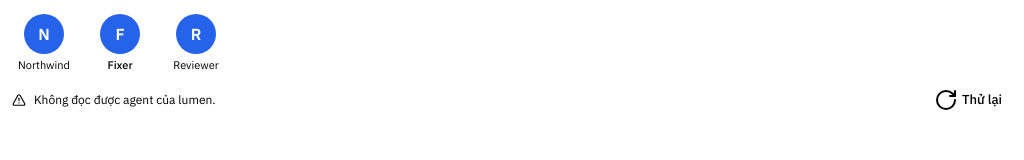
Scenario: the row of agents › names the projects whose agents could not be read and reads them again on Try again
Check: the element with test id "agent-strip-failed" shows "Không đọc được agent của lumen.", box [34, 92, 216, 107]
What coordinates should you click on to do the following:
click the button with test id "agent-strip-retry"
I would click on:
 (968, 100)
Its box is [924, 86, 1012, 114].
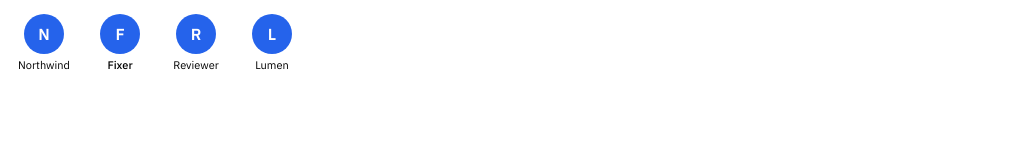
Check: the element with test id "agent-strip-failed" is gone
